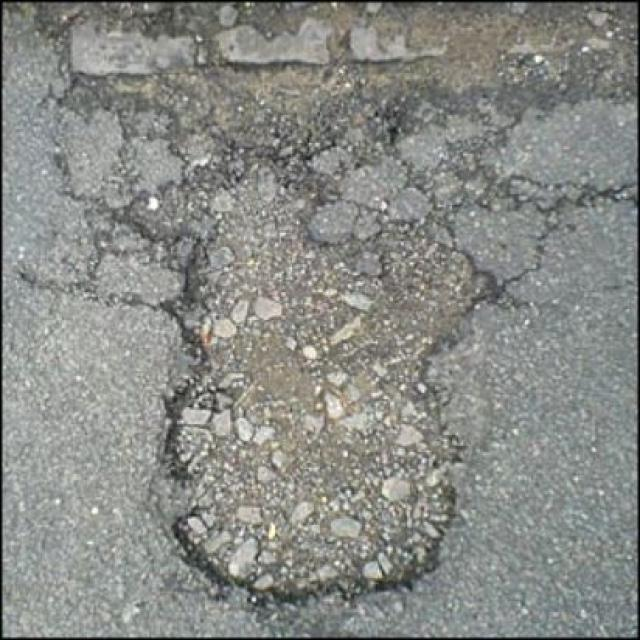Pothole: (112, 140, 519, 609)
